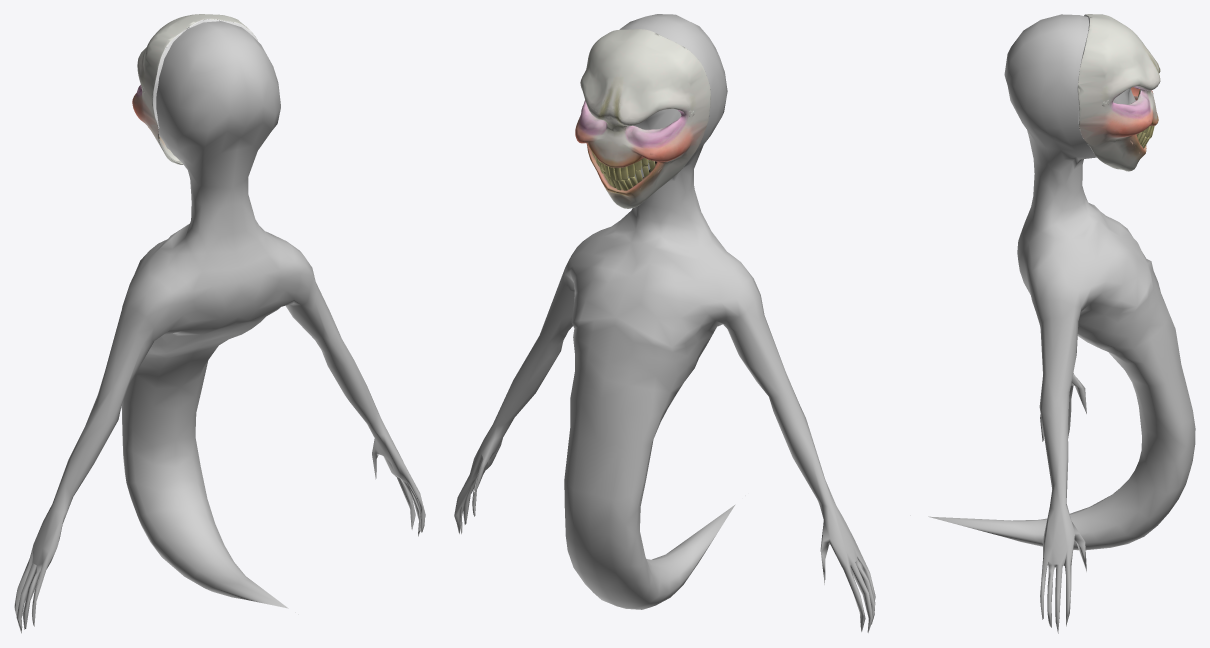
Rendered from LowerTeethHappy.fbx.
3 renders of one model, left to right at view 1: azimuth 30°, elevation 25°; view 2: azimuth 150°, elevation 25°; view 3: azimuth 270°, elevation 25°, orthographic. The views are drawn at different scales.
Parts seen in each view (by area): view 1: BodyHappy, MaskHappy; view 2: BodyHappy, MaskHappy; view 3: BodyHappy, MaskHappy.
Boxes of the visible parts, x1,y1,x2,y2 form: BodyHappy: [14, 21, 425, 633]; MaskHappy: [132, 14, 257, 164]; BodyHappy: [454, 14, 875, 632]; MaskHappy: [575, 29, 710, 208]; BodyHappy: [910, 14, 1195, 633]; MaskHappy: [1077, 14, 1160, 171].
Size of the model in its own units: 5.84 by 7.68 by 3.85.
